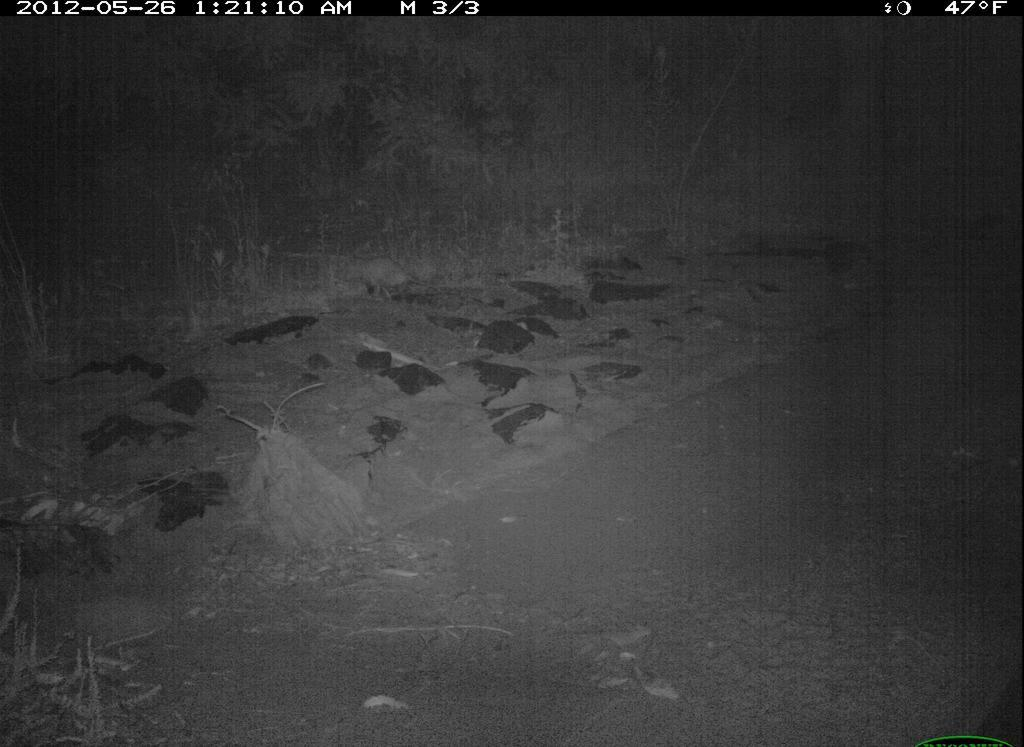opossum: (340, 257, 427, 296)
